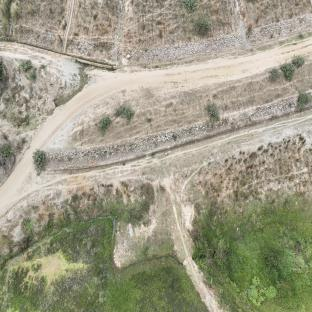rock_toe: (42, 94, 300, 169), (67, 14, 312, 64), (14, 24, 64, 52)
toe_drain: (44, 105, 312, 177)
